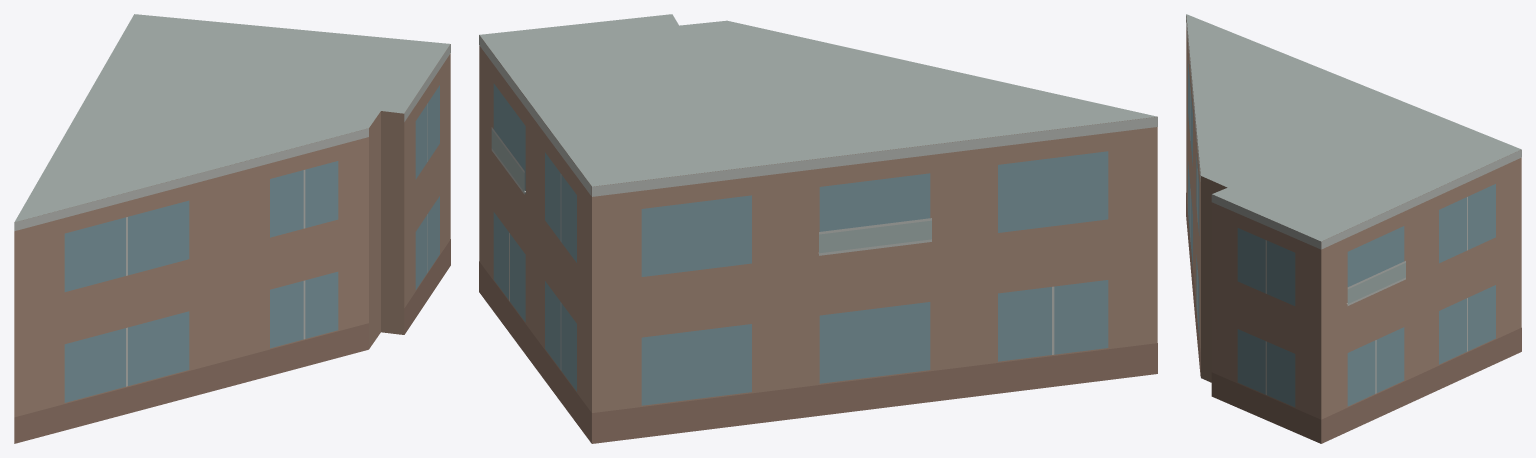
Rendered from survey-upis-32625234.glb.
The picture shows the model from 3 angles, left to right: view 1: azimuth 30°, elevation 25°; view 2: azimuth 150°, elevation 25°; view 3: azimuth 270°, elevation 25°; orthographic projection. The views are drawn at different scales.
Parts seen in each view (by area): view 1: survey-upis-32625234.tmp; view 2: survey-upis-32625234.tmp; view 3: survey-upis-32625234.tmp.
Part boxes in pixels (<box>): survey-upis-32625234.tmp: <box>14,14,450,443</box>; survey-upis-32625234.tmp: <box>479,14,1157,443</box>; survey-upis-32625234.tmp: <box>1186,14,1521,443</box>.
Bounding box in the file's own units: 14.72 × 6.1 × 9.18.
